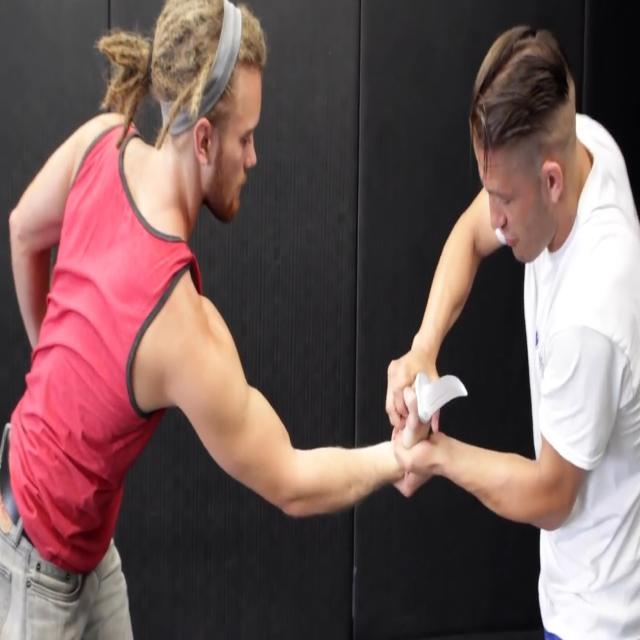knife: (413, 372, 471, 426)
